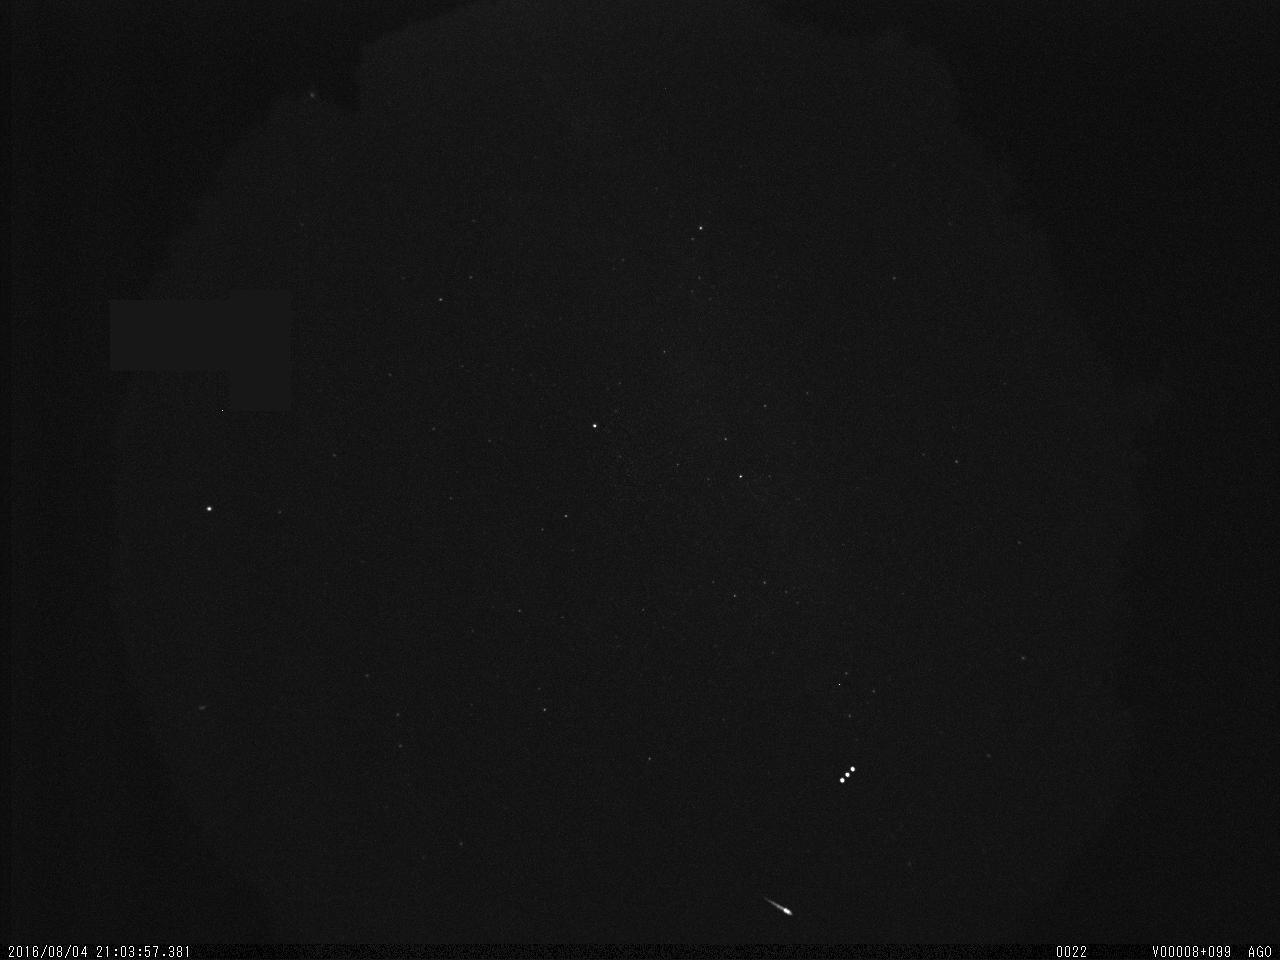meteor: (757, 887, 802, 921)
satelite: (835, 756, 861, 793)
